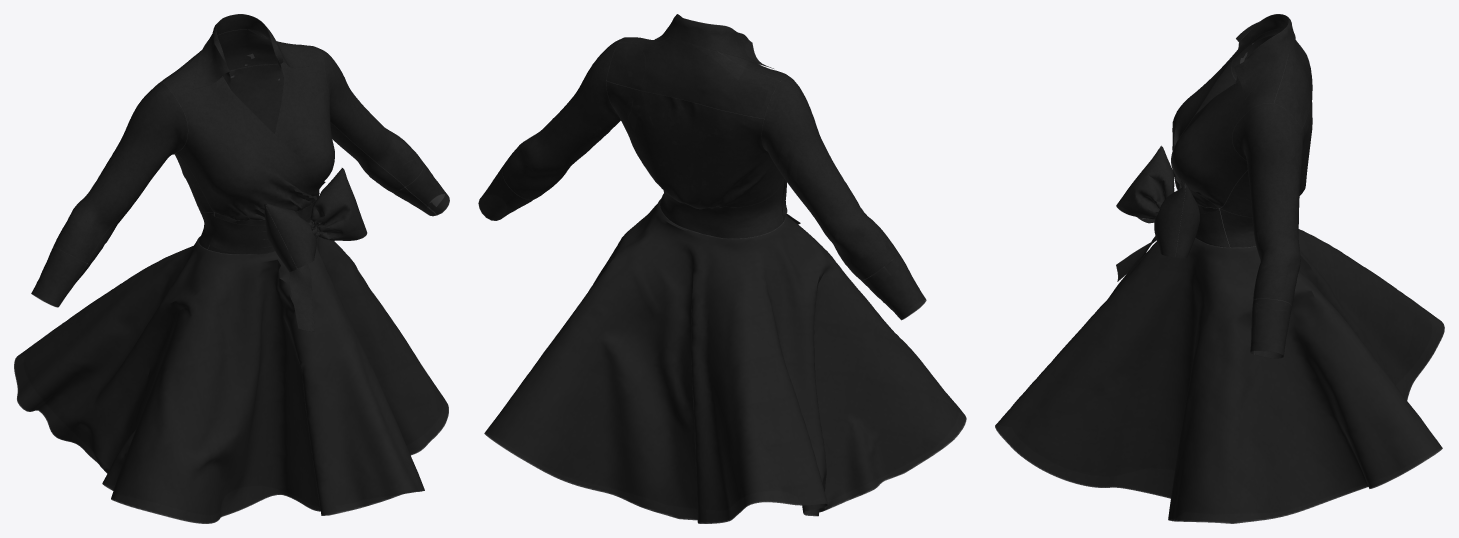
File: outfit11.glb
3 views of the same model, side by side, from view 1: azimuth 30°, elevation 25°; view 2: azimuth 150°, elevation 25°; view 3: azimuth 270°, elevation 25° (orthographic). The views are drawn at different scales.
Visible parts, largest first — view 1: BlackDress; view 2: BlackDress; view 3: BlackDress.
Part boxes in pixels (left/top/right/bottom): BlackDress: left=14, top=14, right=449, bottom=523; BlackDress: left=478, top=14, right=966, bottom=523; BlackDress: left=995, top=14, right=1444, bottom=523.
Bounding box in the file's own units: 0.9695 × 0.9923 × 0.8936.
Materials: 1 (1 with a texture image).
